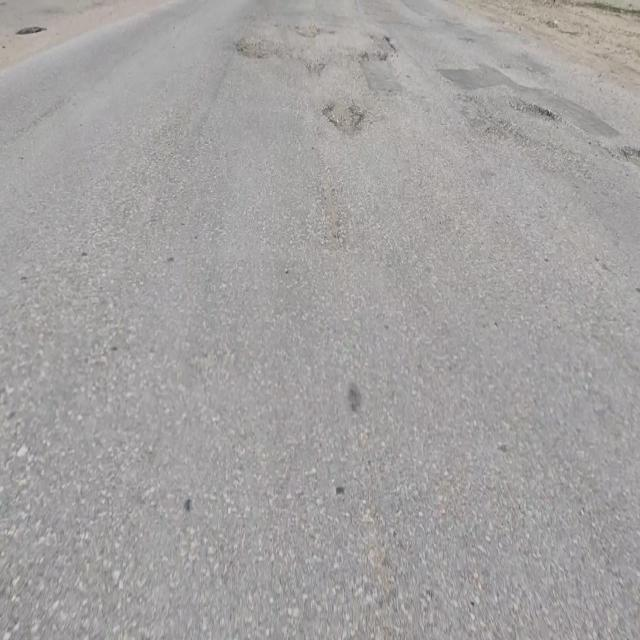Potholes: (321, 94, 364, 139), (234, 38, 291, 61), (360, 32, 397, 67), (296, 25, 336, 39)
